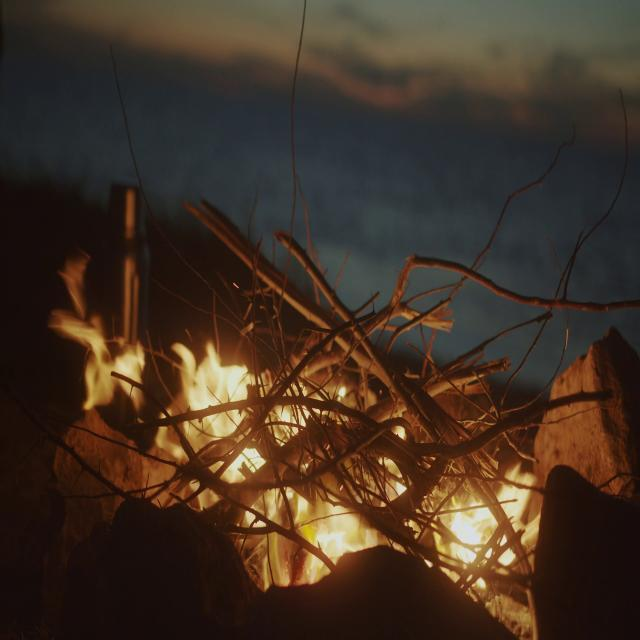Fire: (88, 321, 406, 579), (431, 452, 542, 584)
